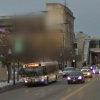Bus: (19, 60, 60, 87)
